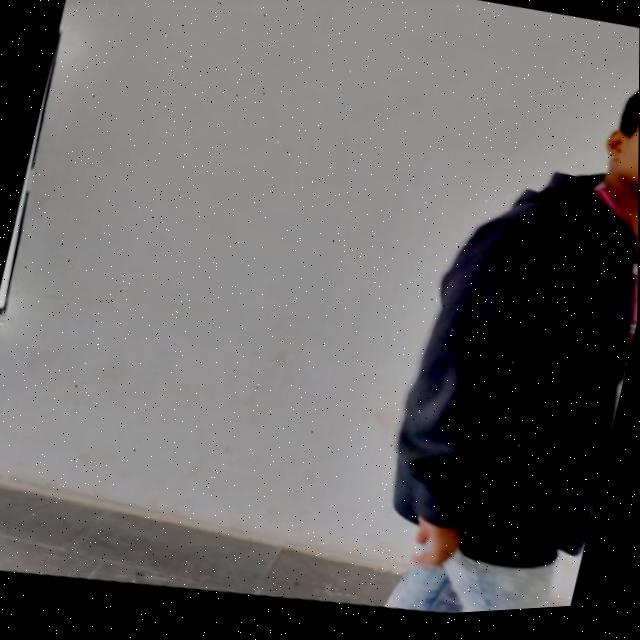id_card: (559, 175, 639, 351)
